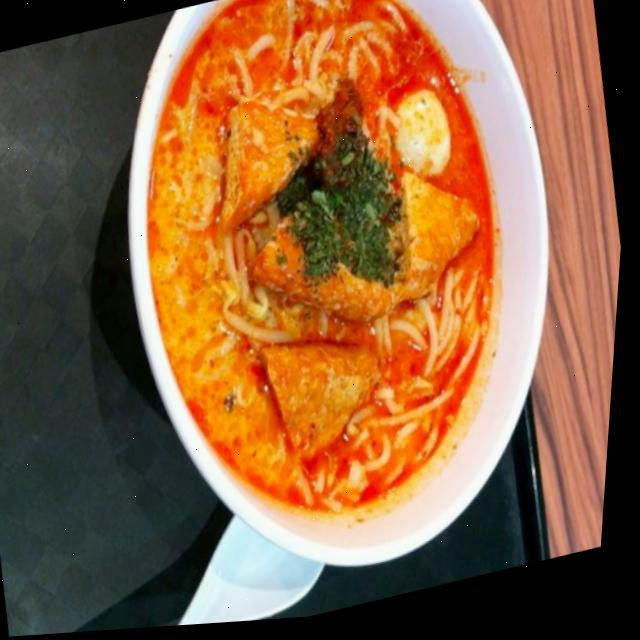面条主食: (43, 0, 640, 614)
